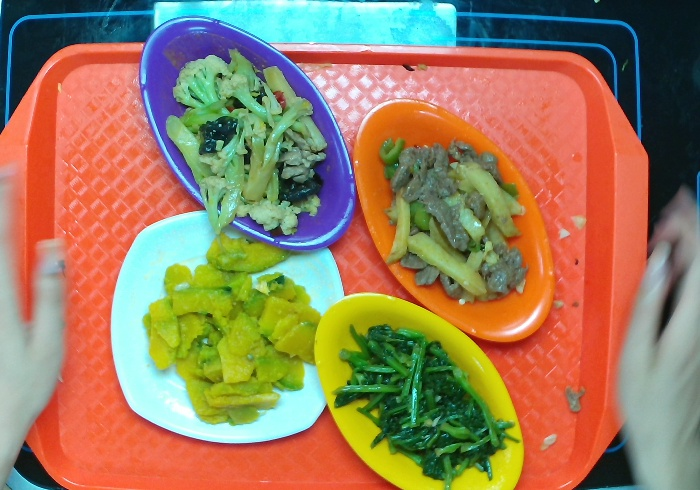RJxy-Fen_Hong_Tuo_Yuan: (136, 15, 363, 258)
RJxy-Huang_Se_Tuo_Yuan: (305, 289, 528, 490)
RJxy-Ju_Huang_Tuo_Yuan: (350, 95, 559, 347)
RJxy-Si_Fang_Die: (108, 206, 353, 447)
